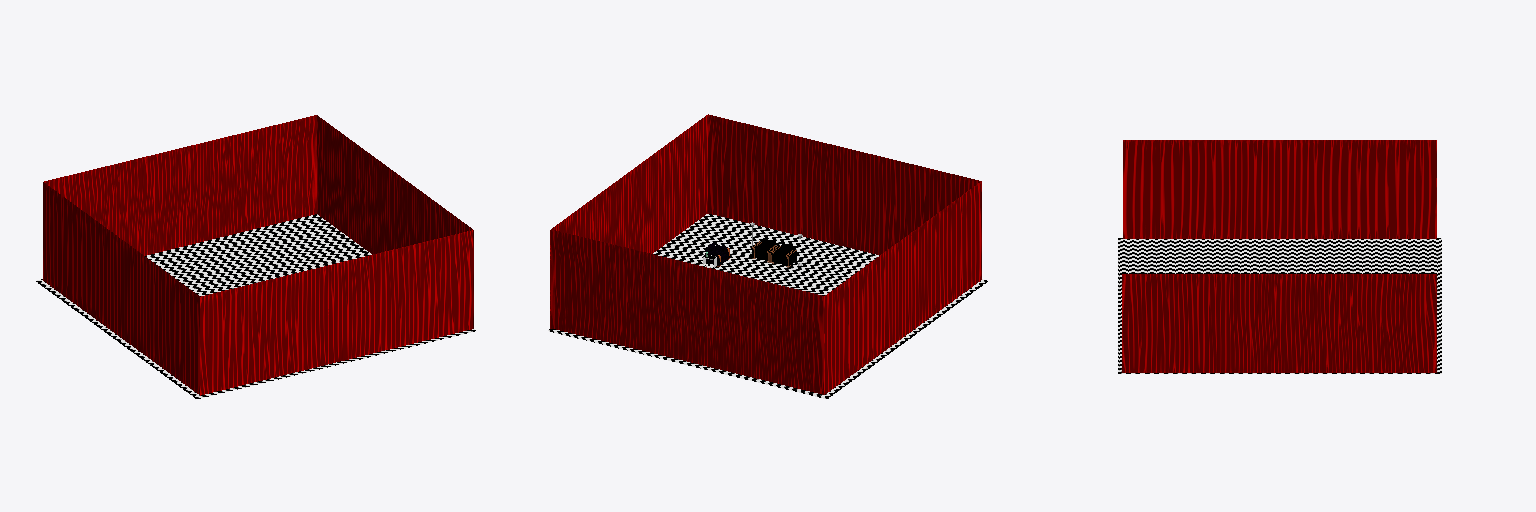
3 views of the same model, side by side, from view 1: azimuth 30°, elevation 25°; view 2: azimuth 150°, elevation 25°; view 3: azimuth 270°, elevation 25° (orthographic).
Visible parts, largest first — view 1: curtain1_lp_curtains_mat_0, curtain3_lp_curtains_mat_0, curtain4_lp_curtains_mat_0, floor_floor_mat_0, curtain2_lp_curtains_mat_0; view 2: curtain3_lp_curtains_mat_0, curtain1_lp_curtains_mat_0, curtain4_lp_curtains_mat_0, curtain2_lp_curtains_mat_0, floor_floor_mat_0; view 3: curtain2_lp_curtains_mat_0, curtain4_lp_curtains_mat_0, floor_floor_mat_0.
Part boxes in pixels (x1,y1,x2,y2): curtain1_lp_curtains_mat_0: (200, 230, 472, 395); curtain3_lp_curtains_mat_0: (44, 115, 316, 255); curtain4_lp_curtains_mat_0: (43, 182, 199, 394); floor_floor_mat_0: (36, 214, 475, 398); curtain2_lp_curtains_mat_0: (317, 115, 473, 328); curtain3_lp_curtains_mat_0: (551, 229, 823, 394); curtain1_lp_curtains_mat_0: (708, 114, 981, 279); curtain4_lp_curtains_mat_0: (824, 182, 980, 394); curtain2_lp_curtains_mat_0: (550, 115, 707, 328); floor_floor_mat_0: (548, 214, 987, 398); curtain2_lp_curtains_mat_0: (1122, 274, 1436, 372); curtain4_lp_curtains_mat_0: (1123, 140, 1436, 238); floor_floor_mat_0: (1118, 238, 1441, 373).
Bounding box in the file's own units: 171 × 58.36 × 171.
9 materials, 8 textured.